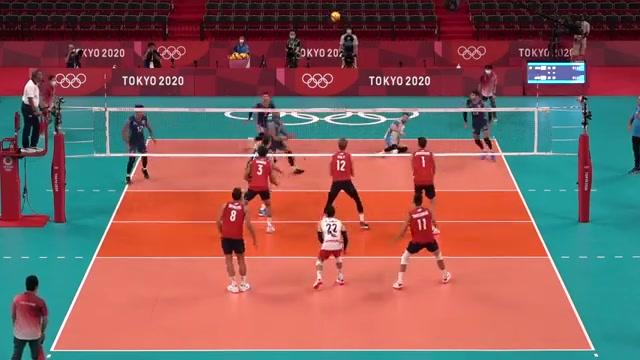ball: (331, 12, 341, 24)
